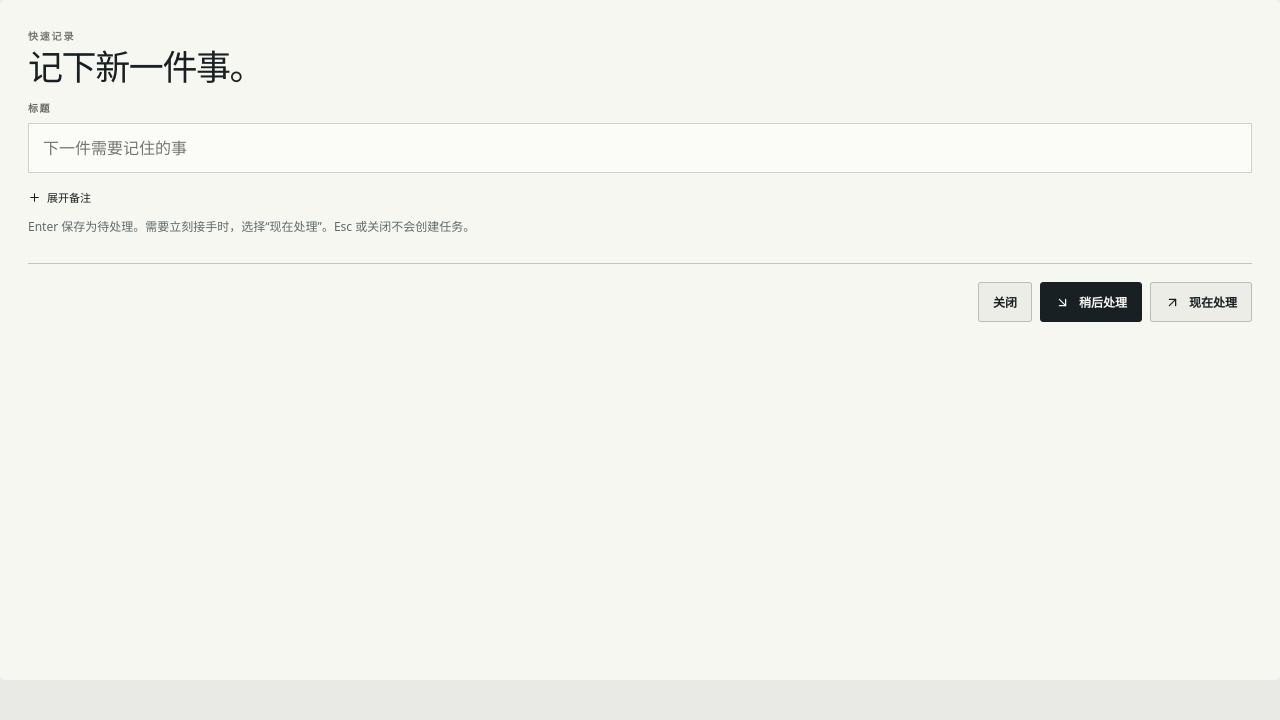
Test: keeps capture open when draft save fails on close
This screenshot has width=1280, height=720.
Type "不能丢掉" into the field labelled "标题". click: (640, 148)
box: [28,123,1252,173]
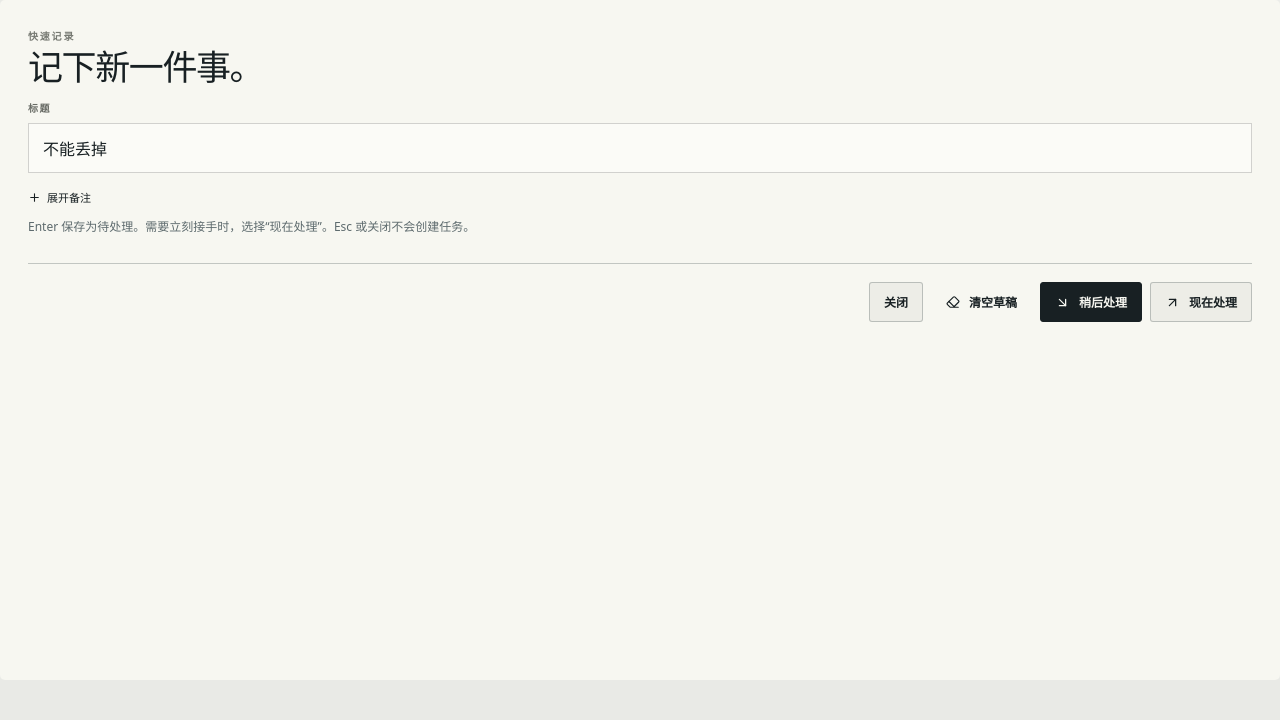
Press Escape
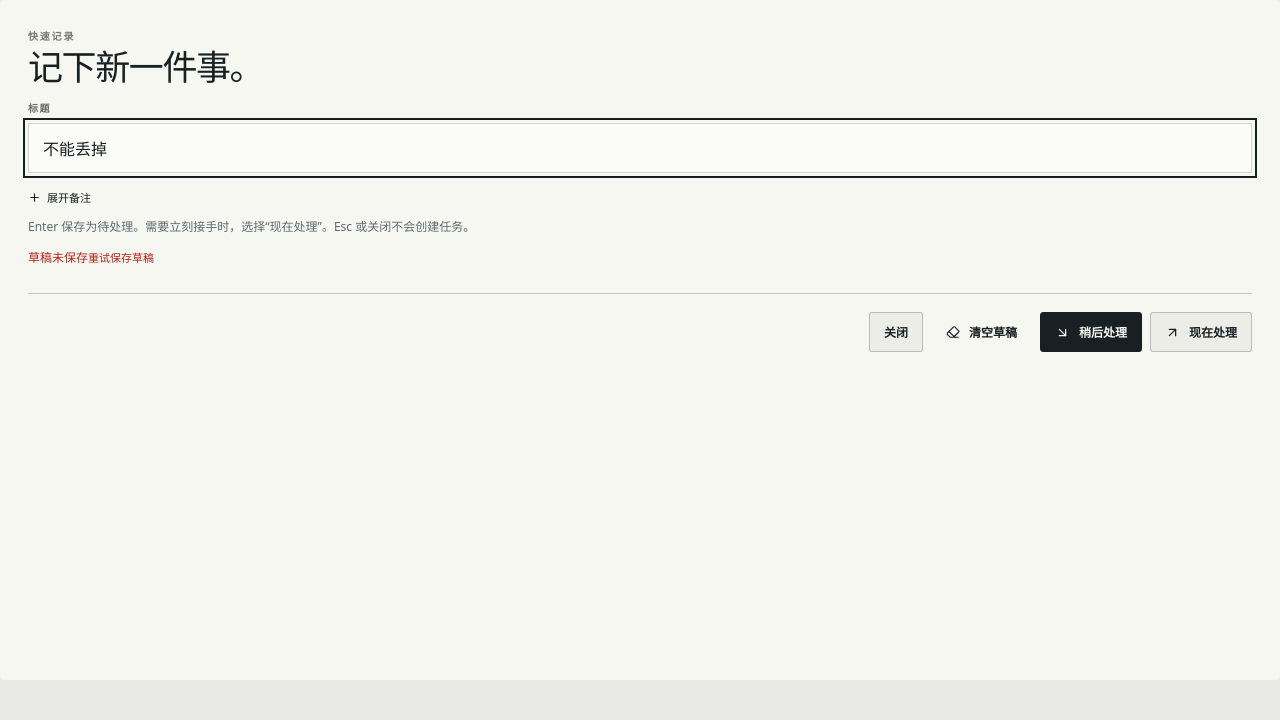
Expected: the text "草稿未保存" is shown, [28,249,88,266]
